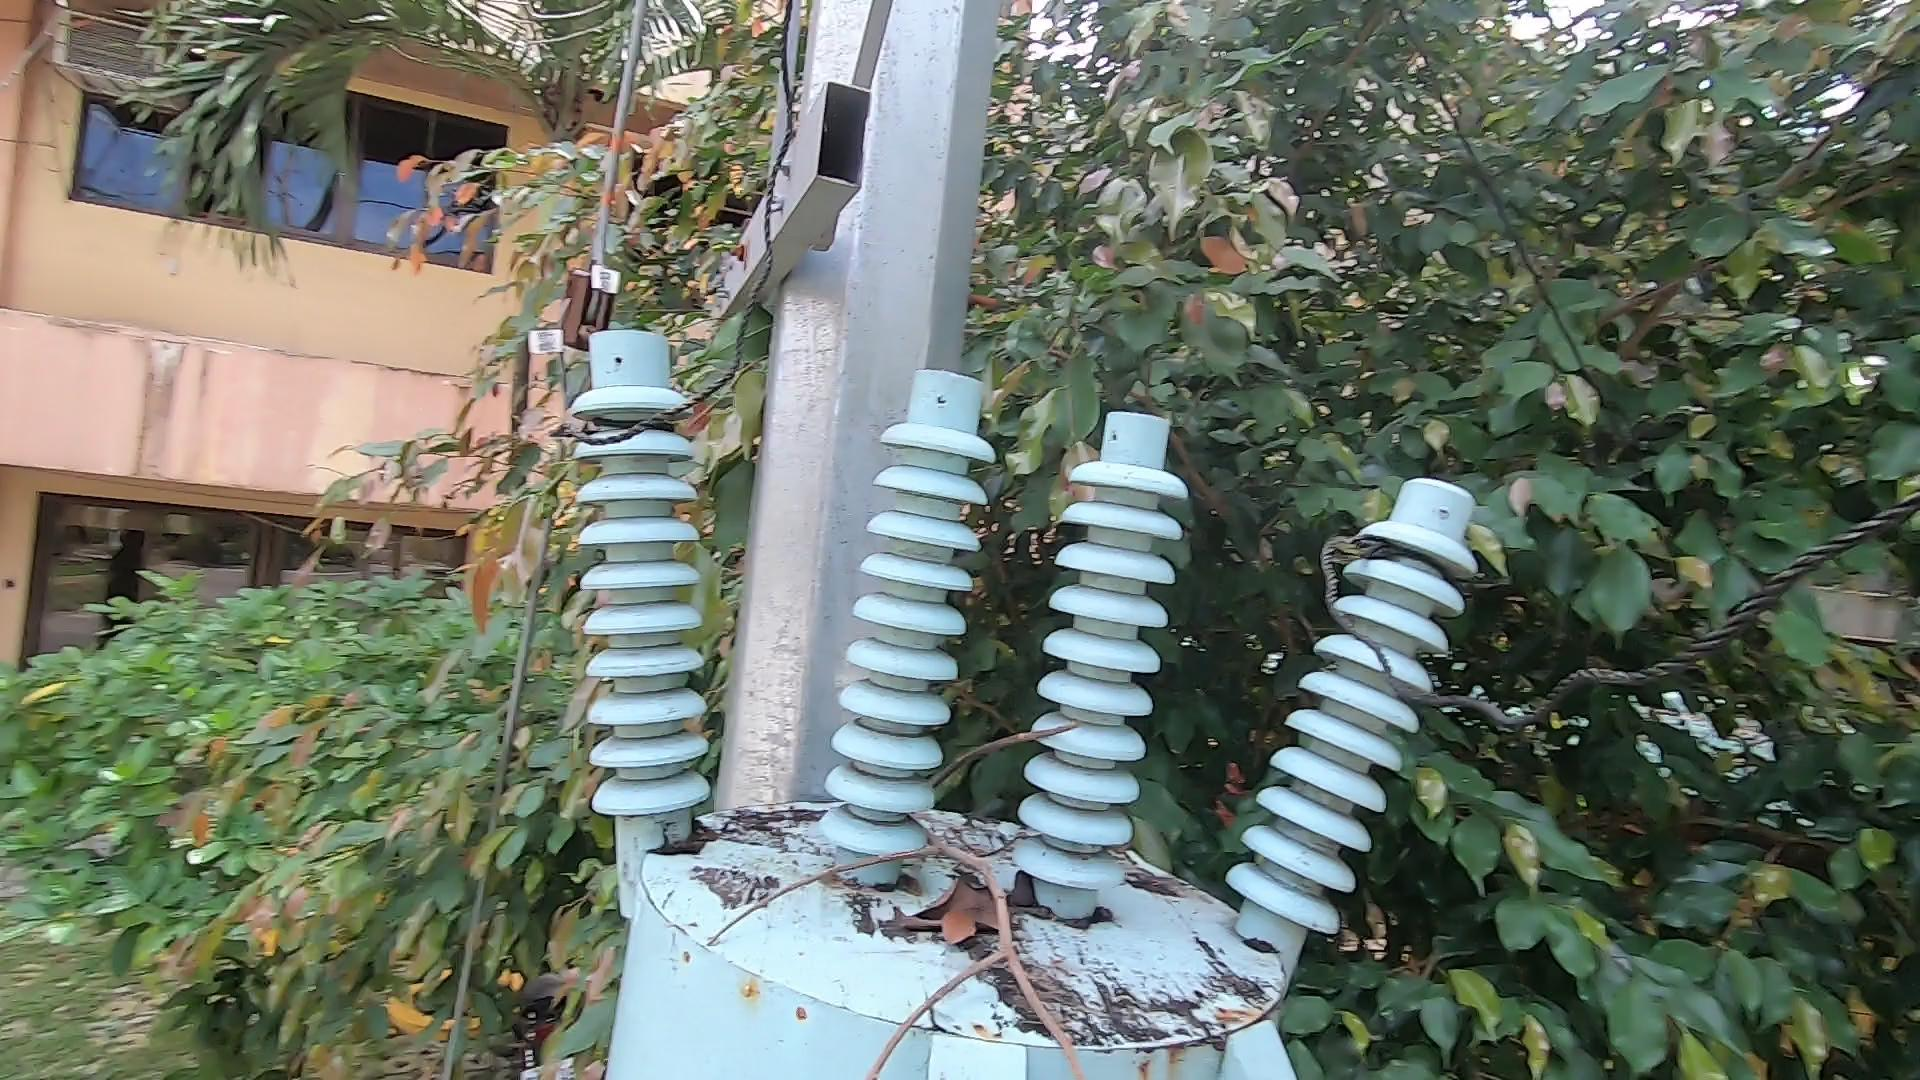leaf: (890, 832, 1042, 949), (638, 802, 724, 869)
tree branch: (702, 700, 1156, 1080)
